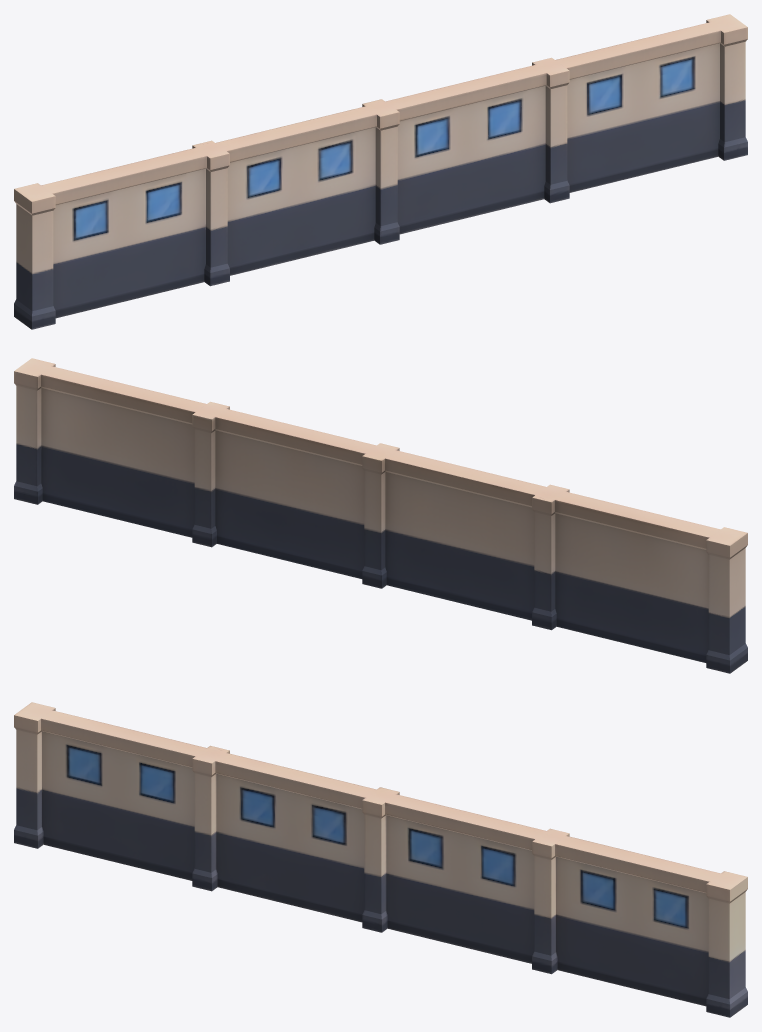
Rendered from zoulang3.fbx.
3 renders of one model, top to bottom at view 1: azimuth 30°, elevation 25°; view 2: azimuth 150°, elevation 25°; view 3: azimuth 330°, elevation 25°, orthographic.
Parts seen in each view (by area): view 1: base:Mesh; view 2: base:Mesh; view 3: base:Mesh.
Boxes of the visible parts, bbox=[...] form: base:Mesh: bbox=[14, 14, 747, 329]; base:Mesh: bbox=[14, 358, 747, 673]; base:Mesh: bbox=[14, 702, 747, 1017].
Bounding box in the file's own units: 1.9 × 0.3241 × 0.082.
